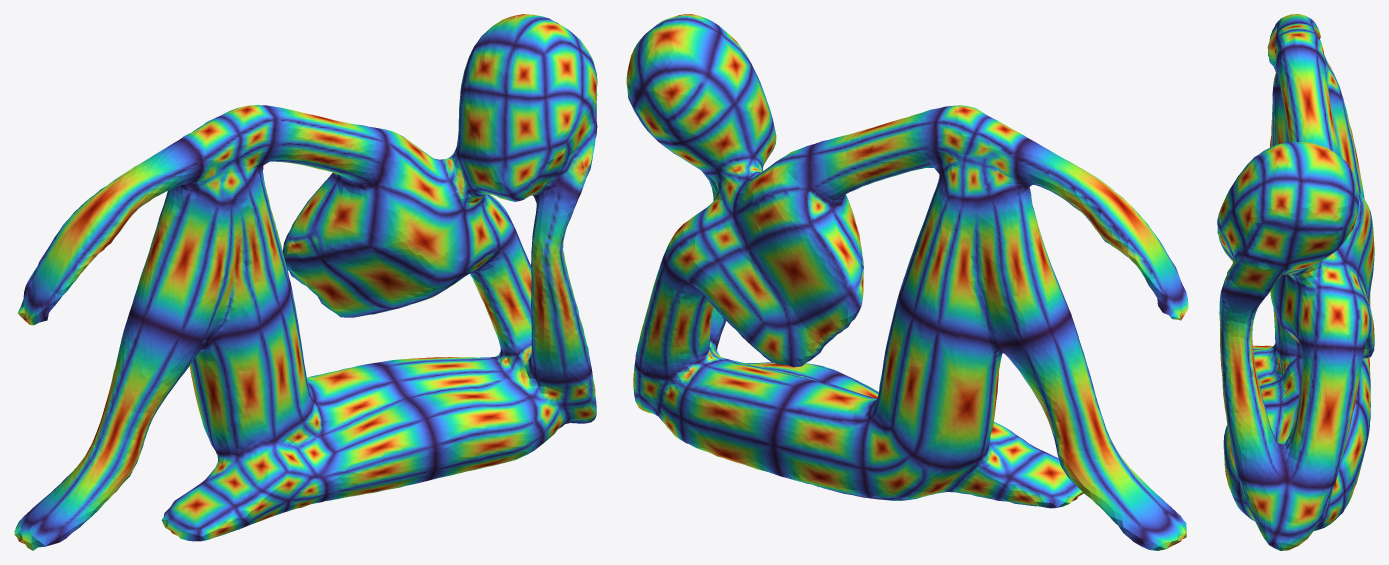
Rendered from gen1.glb.
The picture shows the model from 3 angles, left to right: view 1: azimuth 30°, elevation 25°; view 2: azimuth 150°, elevation 25°; view 3: azimuth 270°, elevation 25°; orthographic projection. The views are drawn at different scales.
Visible parts, largest first — view 1: Node; view 2: Node; view 3: Node.
Boxes of the visible parts, x1,y1,x2,y2 form: Node: [14, 14, 597, 550]; Node: [626, 14, 1188, 550]; Node: [1217, 14, 1374, 550].
Size of the model in its own units: 0.9985 by 0.7006 by 0.2574.
Materials: 1 (1 with a texture image).
